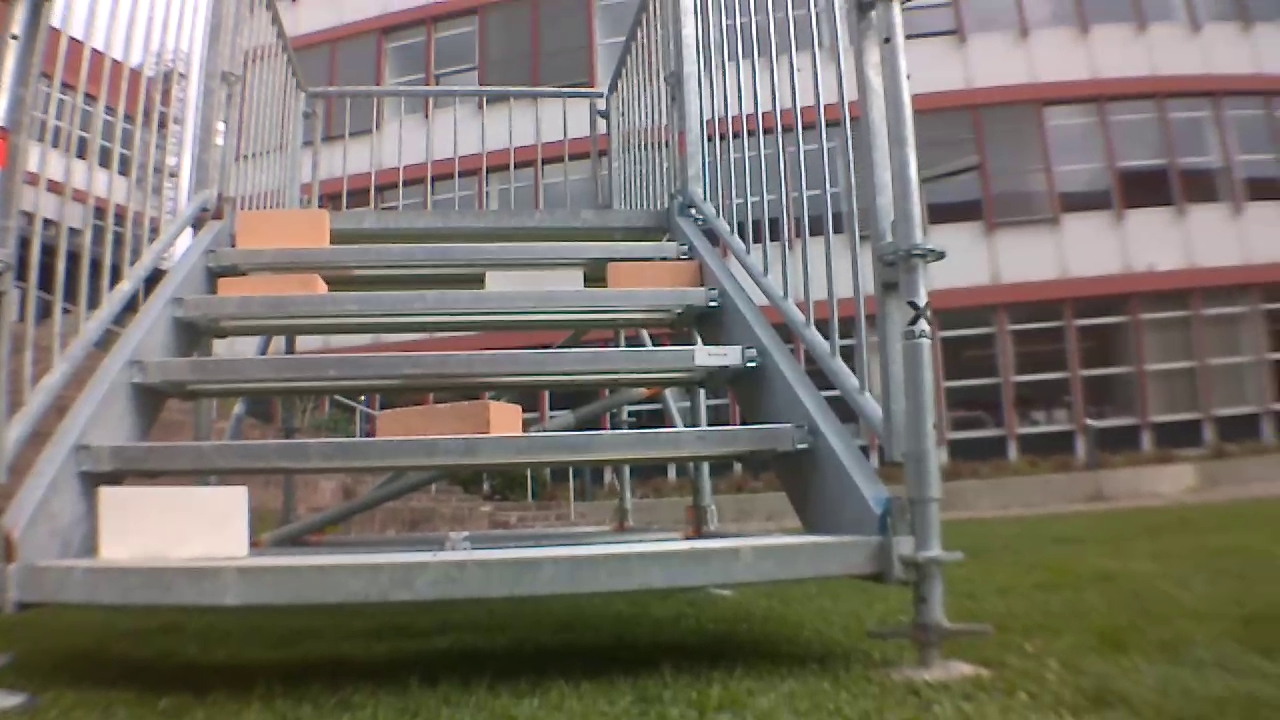brick: (98, 485, 247, 561), (377, 399, 522, 437), (236, 209, 329, 248), (607, 261, 698, 288), (217, 274, 328, 294), (486, 269, 583, 290)
edge: (19, 538, 886, 603), (77, 425, 812, 466), (131, 346, 761, 381), (170, 287, 721, 314), (205, 242, 697, 264), (226, 210, 664, 228)
stairs: (4, 4, 955, 682)
steps: (11, 202, 891, 612)
